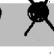not correct: (19, 0, 54, 38)
